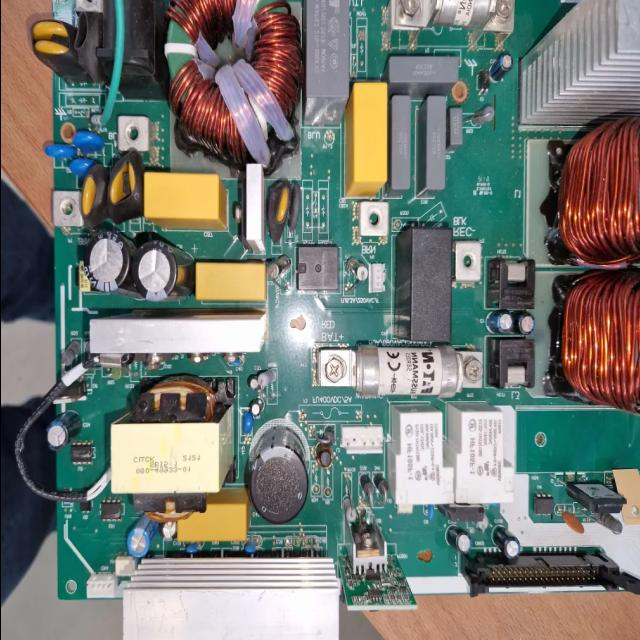A: (162, 0, 298, 177), (548, 268, 640, 420), (548, 115, 640, 265)
B: (308, 346, 482, 396), (382, 1, 512, 46)
C: (248, 425, 308, 523), (76, 226, 132, 297), (132, 239, 190, 303)
